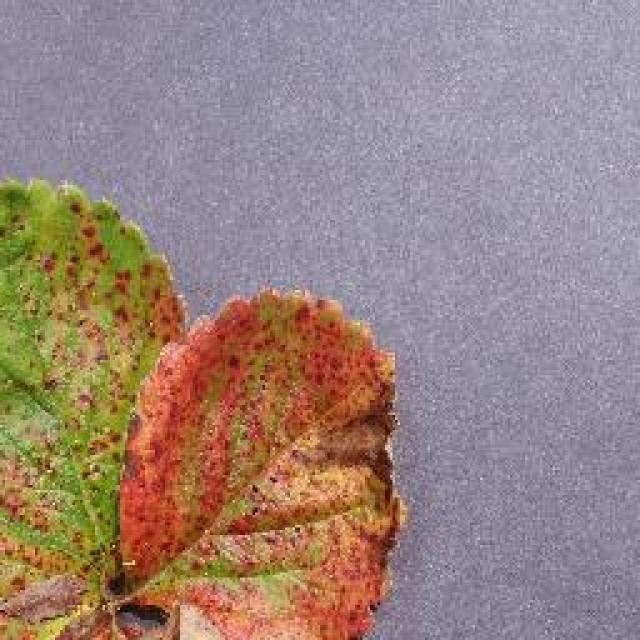Strawberry leaf scorch: (10, 253, 347, 615)
